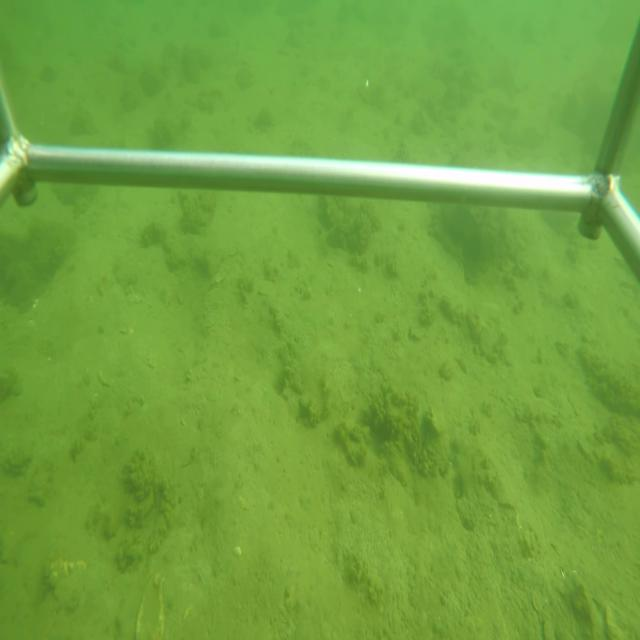Oyster-Indeterminate: (455, 496, 476, 530)
